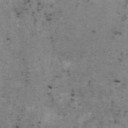oxide scale of temperature system: (14, 0, 54, 40), (46, 69, 92, 102), (112, 100, 128, 124), (112, 57, 123, 83), (20, 71, 30, 78), (112, 30, 122, 36), (6, 36, 11, 40), (37, 120, 41, 124), (16, 124, 20, 128), (92, 30, 96, 32)
